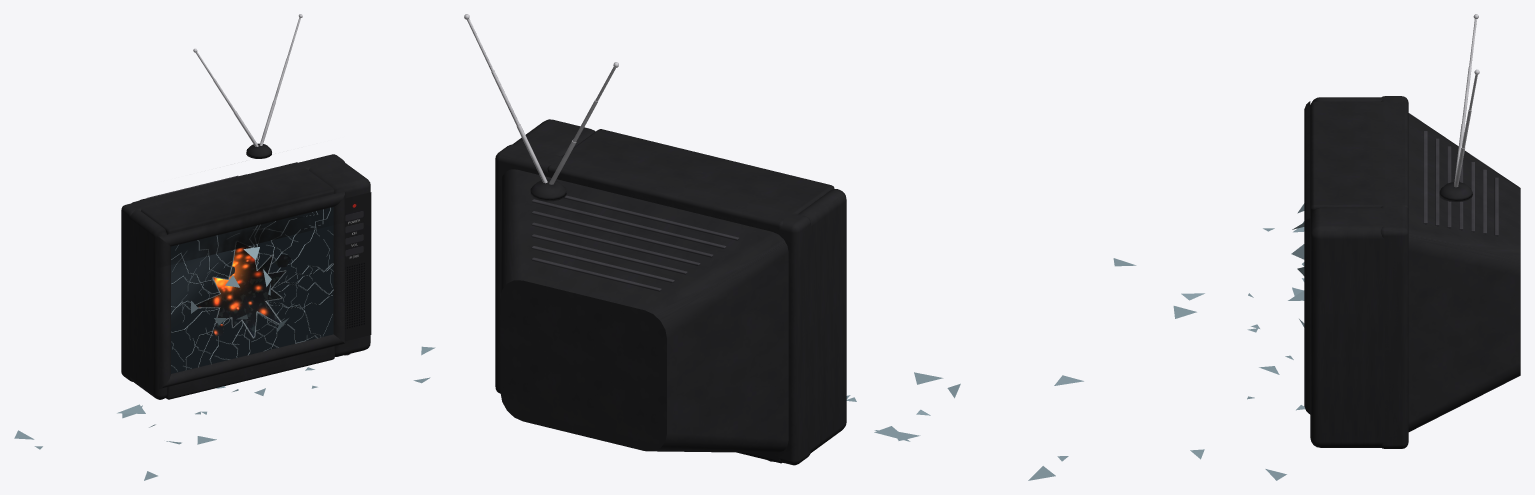
The model's file is tv_broken.glb.
3 renders of one model, left to right at view 1: azimuth 30°, elevation 25°; view 2: azimuth 150°, elevation 25°; view 3: azimuth 270°, elevation 25°, orthographic. The views are drawn at different scales.
Parts seen in each view (by area): view 1: CRTTV_Broken, GlassShards; view 2: CRTTV_Broken, GlassShards; view 3: CRTTV_Broken, GlassShards.
Part boxes in pixels (left/top/right/bottom): CRTTV_Broken: left=121, top=14, right=371, bottom=399; GlassShards: left=14, top=346, right=435, bottom=480; CRTTV_Broken: left=464, top=14, right=846, bottom=465; GlassShards: left=846, top=372, right=1083, bottom=480; CRTTV_Broken: left=1291, top=14, right=1520, bottom=448; GlassShards: left=1113, top=227, right=1305, bottom=480.
Bounding box in the file's own units: 1.8 × 1.23 × 1.2.
9 materials, 7 textured.
